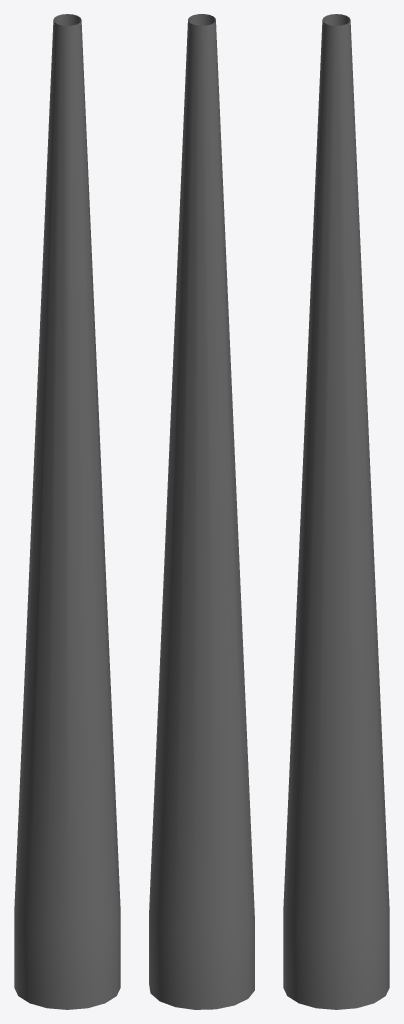
The model's file is pipette_interior.fbx.
3 views of the same model, side by side, from view 1: azimuth 90°, elevation 25°; view 2: azimuth 150°, elevation 25°; view 3: azimuth 270°, elevation 25° (orthographic).
Visible parts, largest first — view 1: poly; view 2: poly; view 3: poly.
Part boxes in pixels (x1,y1,x2,y2): poly: (14,14,120,1009); poly: (149,14,254,1009); poly: (283,14,389,1009).
Size of the model in its own units: 0.438 by 4.39 by 0.438.
